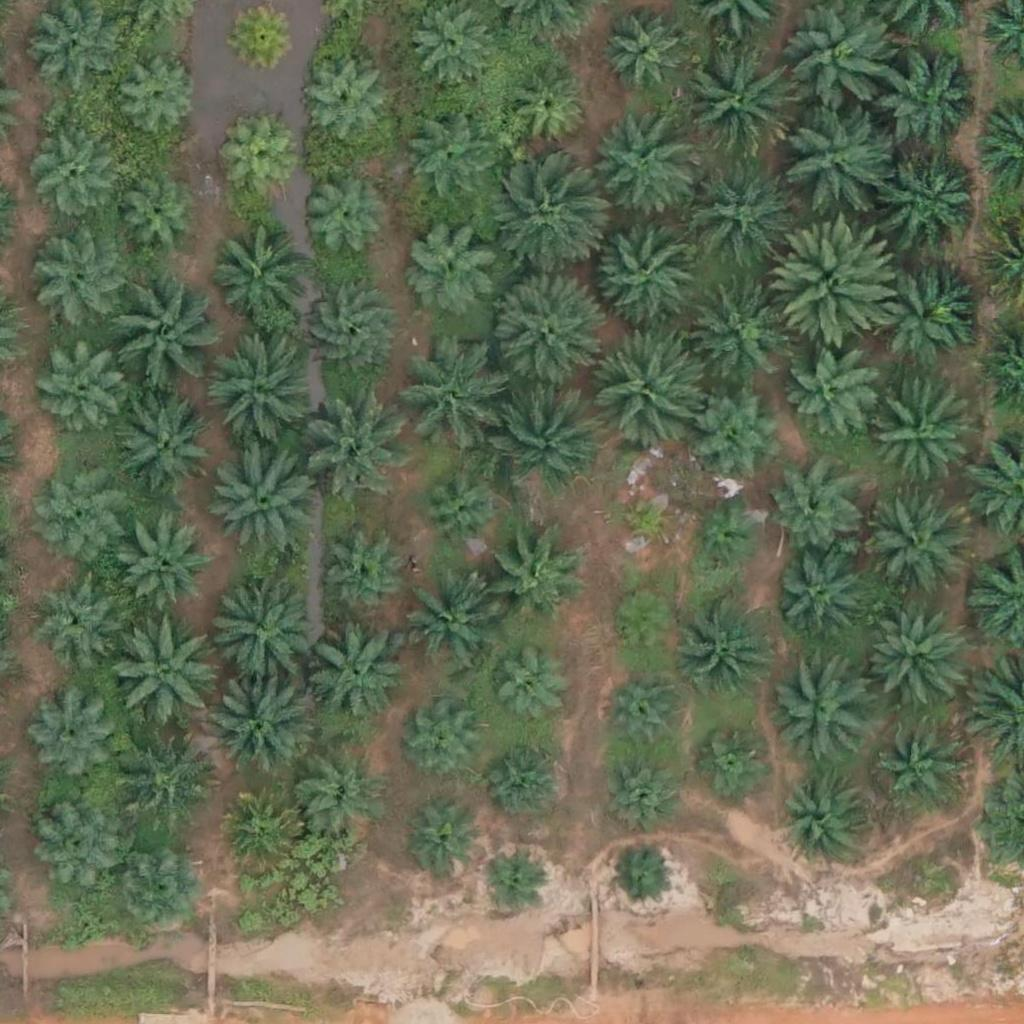Kelapa_Sawit: (775, 220, 900, 346), (777, 98, 890, 212), (201, 441, 314, 555), (679, 46, 792, 159), (683, 158, 796, 271), (590, 213, 703, 326), (487, 274, 600, 387), (206, 668, 319, 781), (198, 572, 311, 685), (784, 4, 897, 117), (487, 376, 599, 490), (204, 337, 316, 451), (106, 614, 218, 728), (583, 114, 695, 227), (588, 331, 700, 444), (485, 165, 597, 278), (298, 382, 410, 495), (102, 276, 214, 389), (884, 150, 984, 251), (870, 387, 970, 488), (865, 499, 965, 600), (861, 607, 961, 708), (687, 279, 787, 380), (689, 380, 789, 481), (481, 528, 581, 629), (395, 577, 495, 678), (395, 349, 495, 450), (305, 625, 405, 726), (208, 225, 308, 326), (111, 393, 211, 494), (113, 730, 213, 831), (32, 230, 132, 331), (680, 594, 780, 695), (879, 57, 979, 157), (869, 257, 969, 357), (772, 659, 872, 759), (402, 215, 502, 315), (300, 283, 400, 383), (769, 467, 857, 555), (594, 750, 682, 838), (213, 788, 301, 876), (502, 64, 590, 152), (416, 466, 504, 554), (297, 57, 385, 145), (123, 526, 211, 614), (25, 694, 113, 782), (23, 129, 111, 217), (602, 9, 690, 97), (772, 554, 859, 643), (402, 114, 489, 203), (36, 801, 123, 890), (879, 725, 966, 813), (781, 774, 868, 862), (787, 347, 874, 435), (604, 669, 691, 757), (299, 173, 386, 261), (321, 535, 408, 623), (298, 755, 385, 843), (115, 53, 202, 141), (112, 177, 199, 265), (114, 847, 201, 935), (26, 572, 113, 660), (35, 460, 122, 548), (38, 345, 125, 433), (487, 652, 562, 728), (489, 740, 564, 816), (688, 500, 763, 576), (607, 587, 682, 663), (221, 123, 296, 199), (695, 722, 770, 797), (407, 707, 482, 782), (405, 807, 480, 882), (478, 848, 541, 911), (611, 844, 673, 907), (614, 488, 676, 551)
